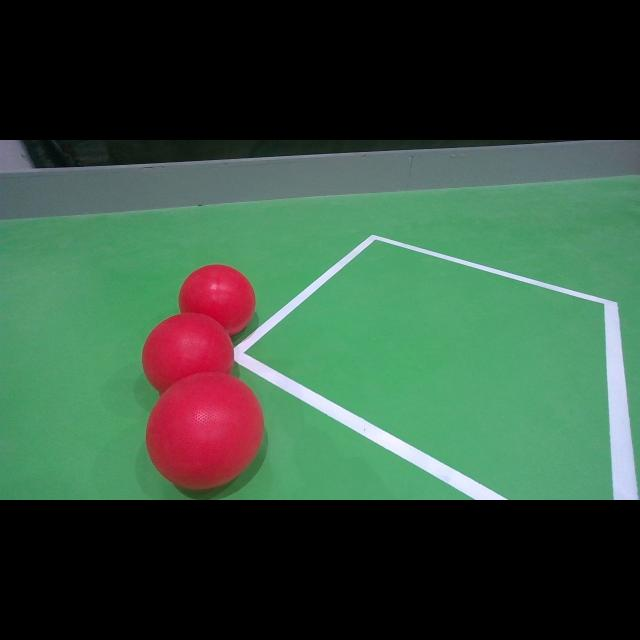R: (146, 372, 264, 490), (133, 310, 235, 386), (178, 262, 260, 324)
